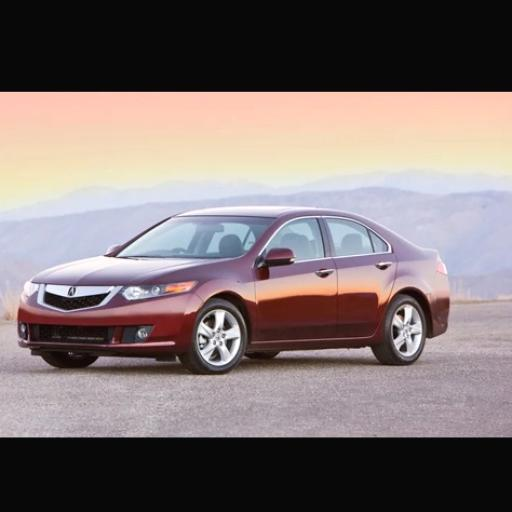sedan: (19, 205, 450, 372)
